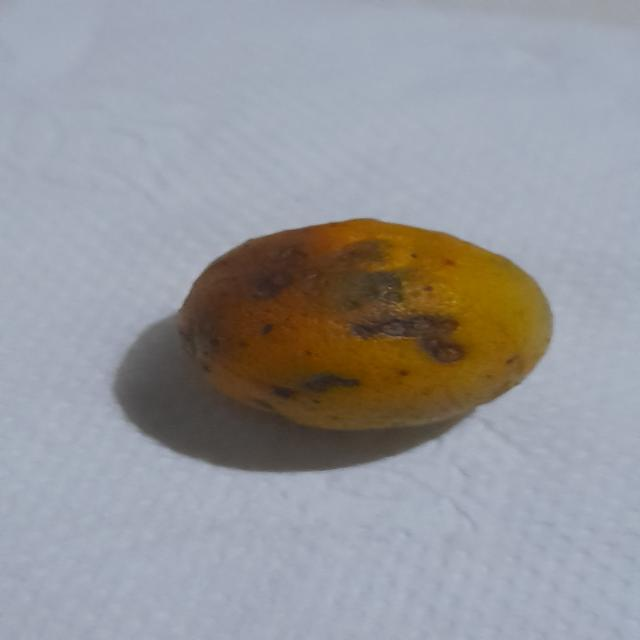black spot: (182, 220, 558, 440)
